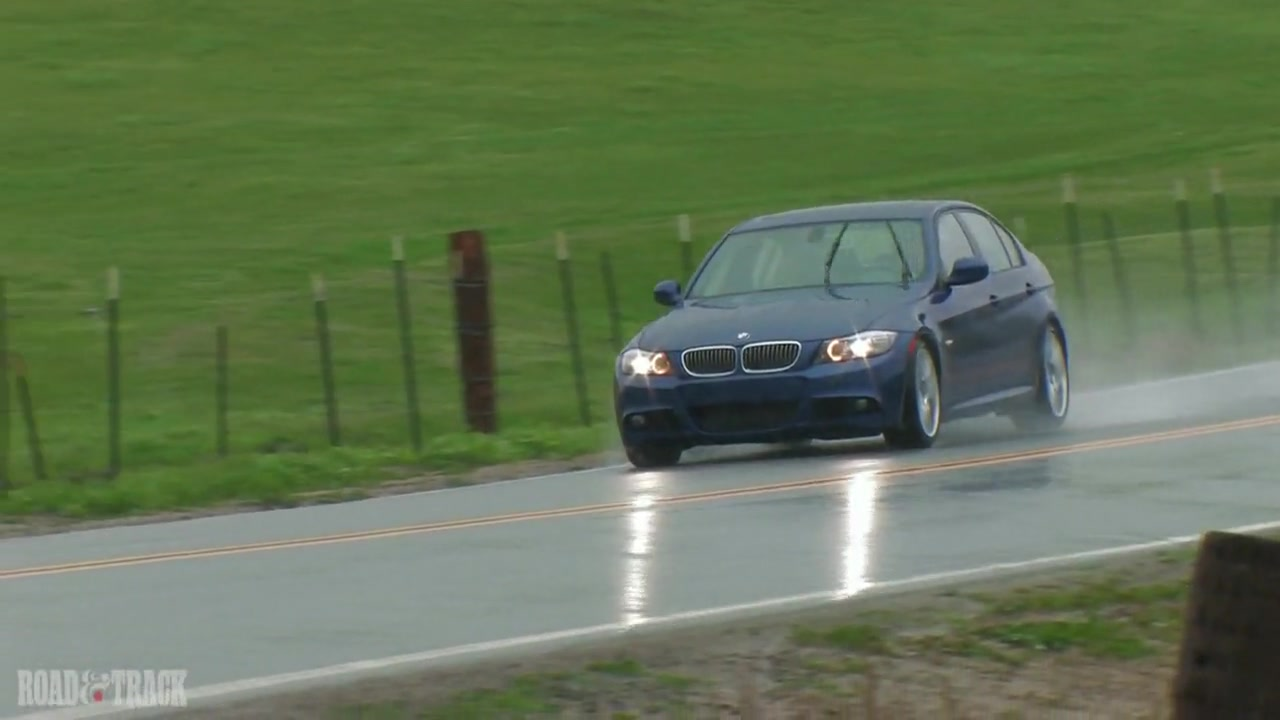car: (613, 197, 1074, 471)
